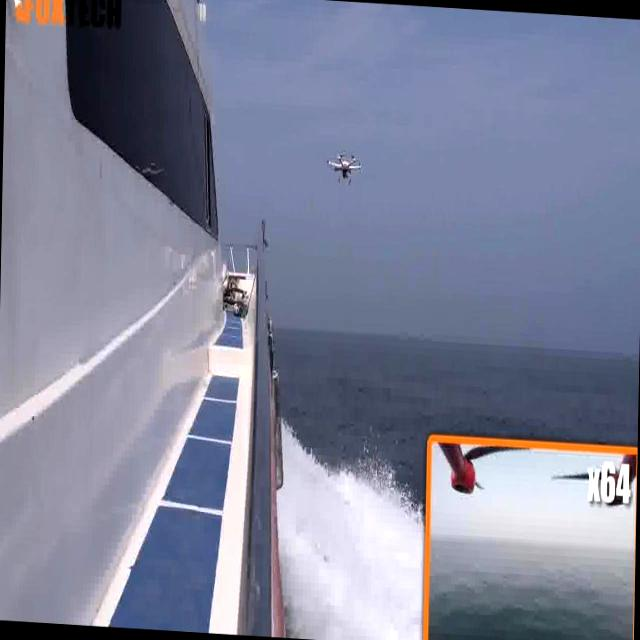drone: (317, 142, 368, 196)
